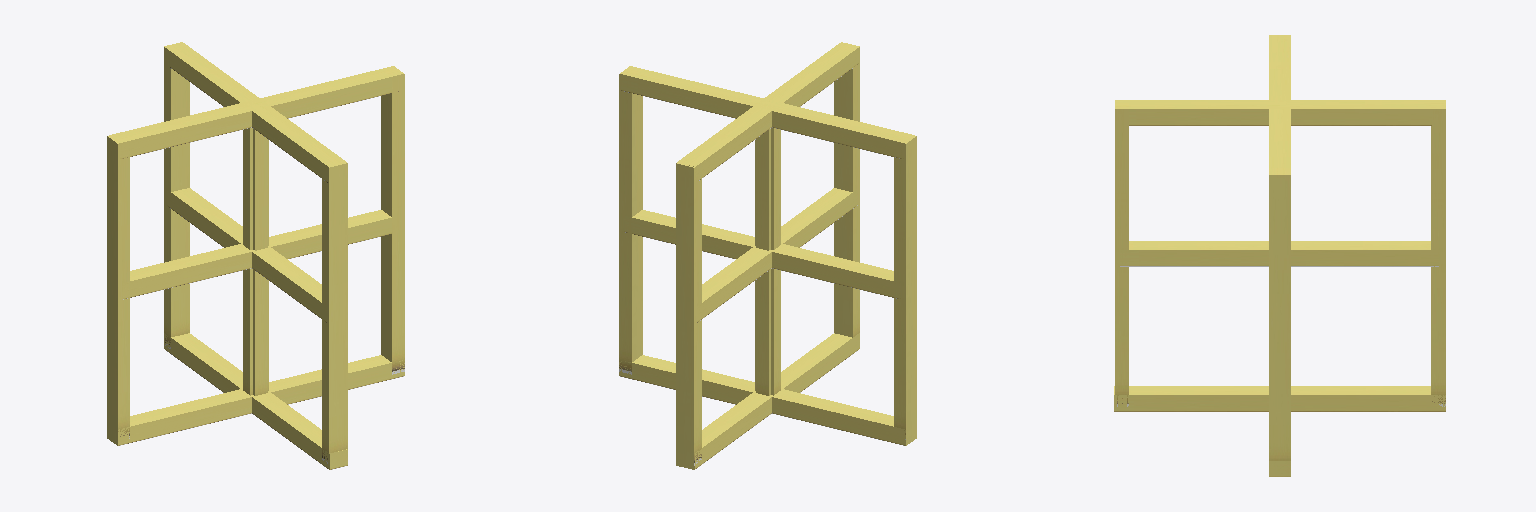
3 views of the same model, side by side, from view 1: azimuth 30°, elevation 25°; view 2: azimuth 150°, elevation 25°; view 3: azimuth 270°, elevation 25° (orthographic).
Visible parts, largest first — view 1: doors1:pCube11; view 2: doors1:pCube11; view 3: doors1:pCube11.
Boxes of the visible parts, <box> form: doors1:pCube11: <box>107,42,404,469</box>; doors1:pCube11: <box>619,42,916,469</box>; doors1:pCube11: <box>1114,35,1445,476</box>.
Size of the model in its own units: 2.74 by 2.75 by 2.74.
2 materials, 2 textured.